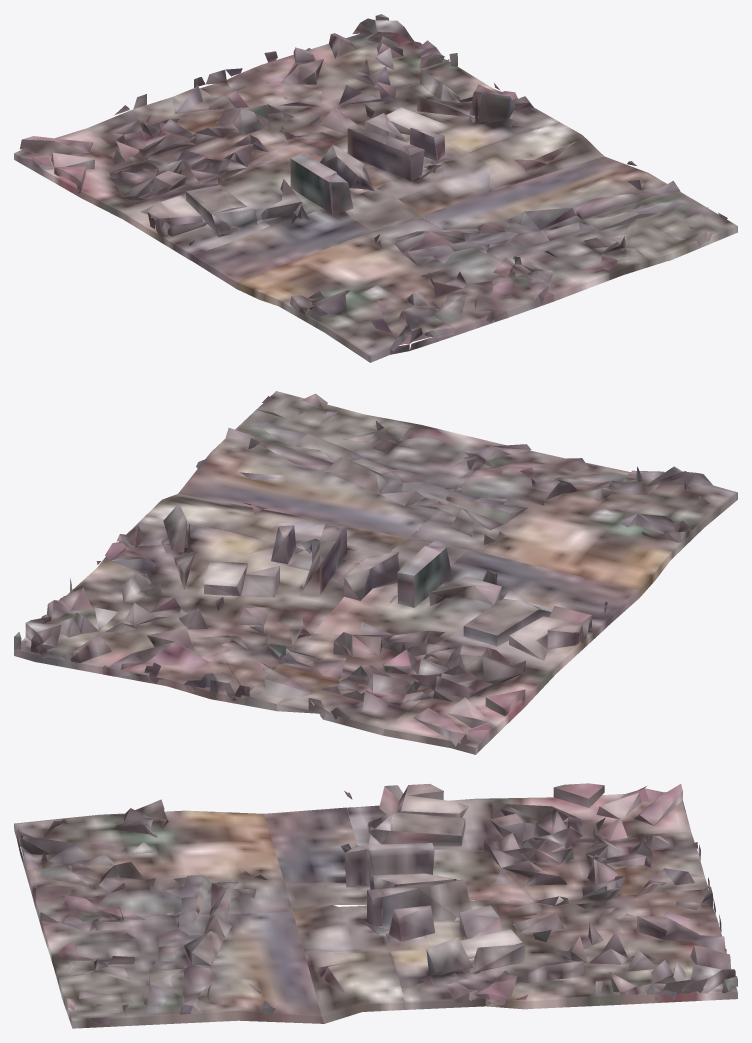
3 views of the same model, one above another, from view 1: azimuth 30°, elevation 25°; view 2: azimuth 150°, elevation 25°; view 3: azimuth 270°, elevation 25° (orthographic). The views are drawn at different scales.
Parts seen in each view (by area): view 1: Mesh_0; view 2: Mesh_0; view 3: Mesh_0.
Part boxes in pixels (x1,y1,x2,y2): Mesh_0: [14, 14, 737, 362]; Mesh_0: [14, 391, 737, 754]; Mesh_0: [14, 783, 737, 1028].
Size of the model in its own units: 532 by 61.8 by 659.
Materials: 1 (1 with a texture image).
